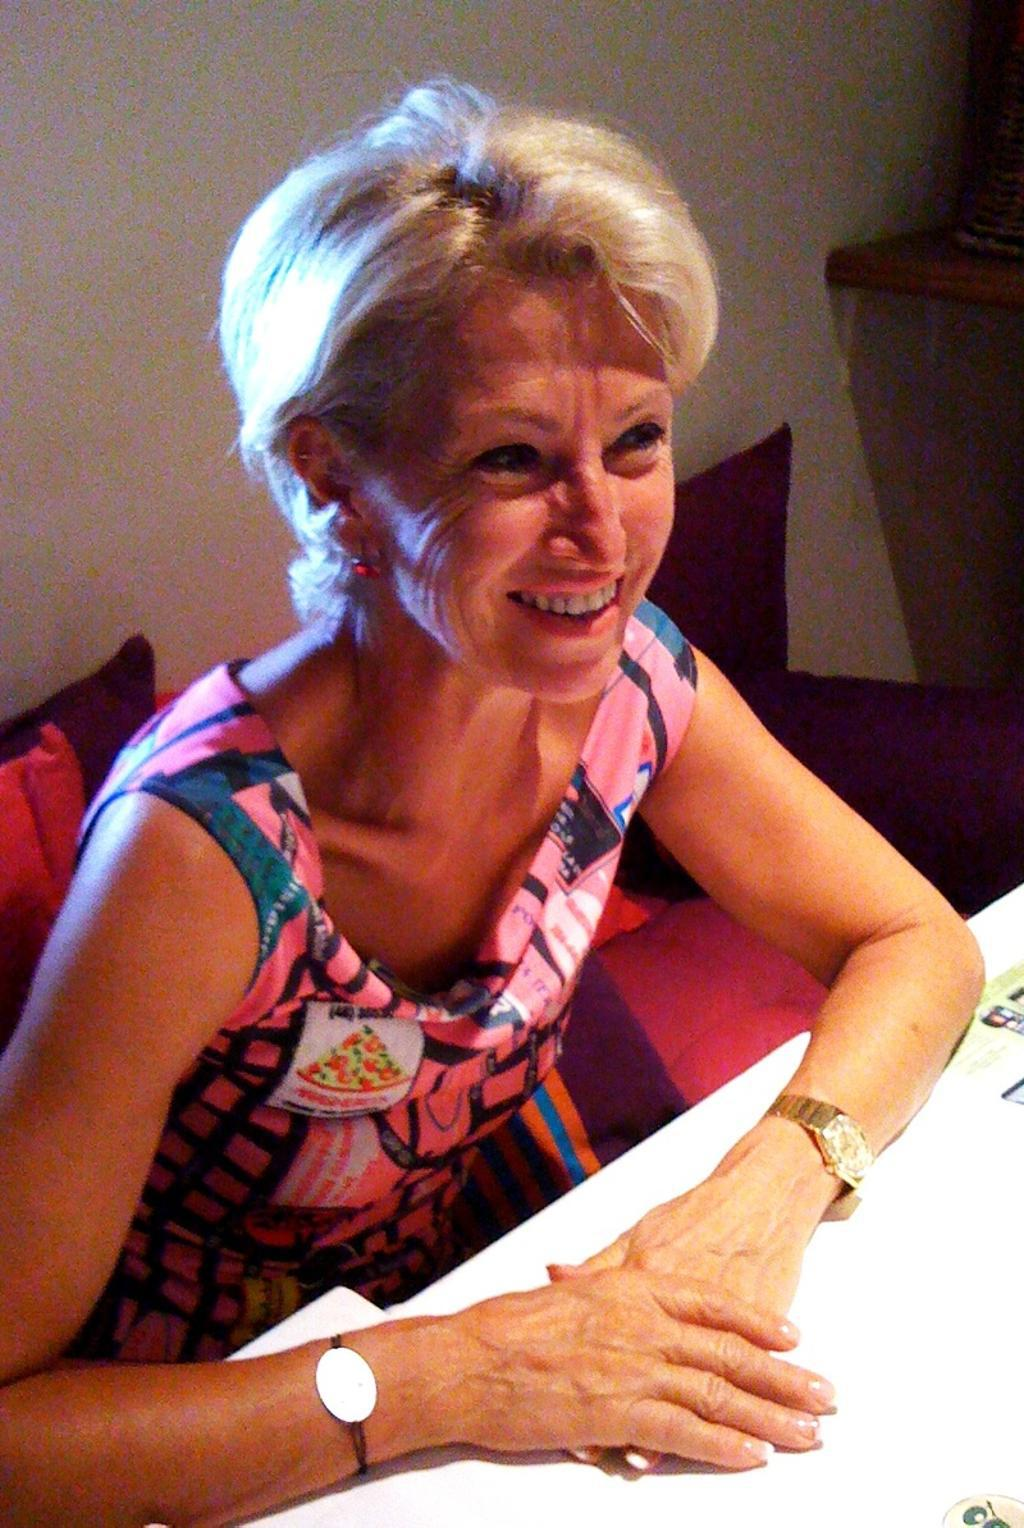face: (377, 270, 673, 703)
